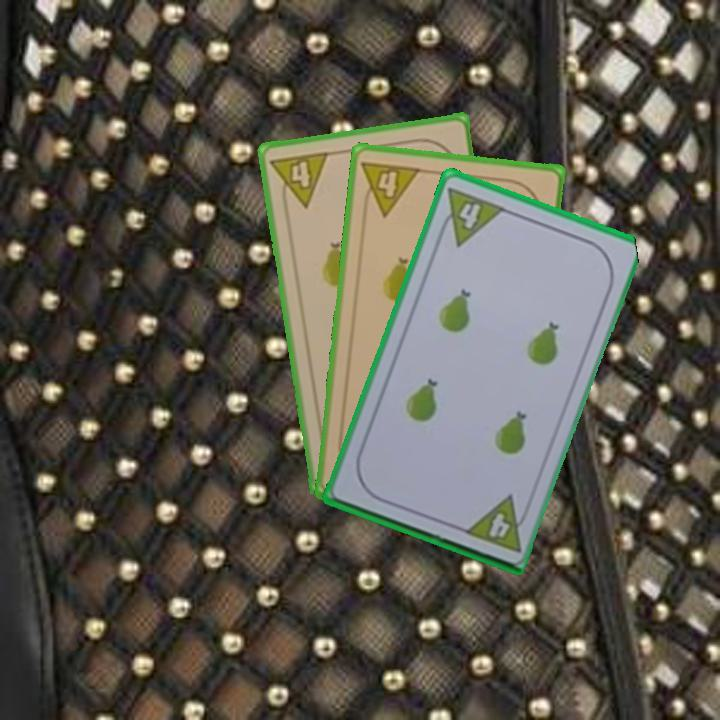4p: (433, 184, 507, 249), (459, 492, 534, 555), (267, 148, 332, 213), (358, 157, 423, 219)
